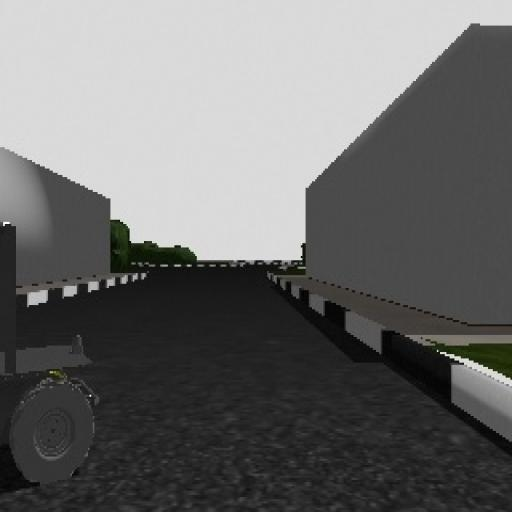huskya200: (0, 196, 106, 502)
